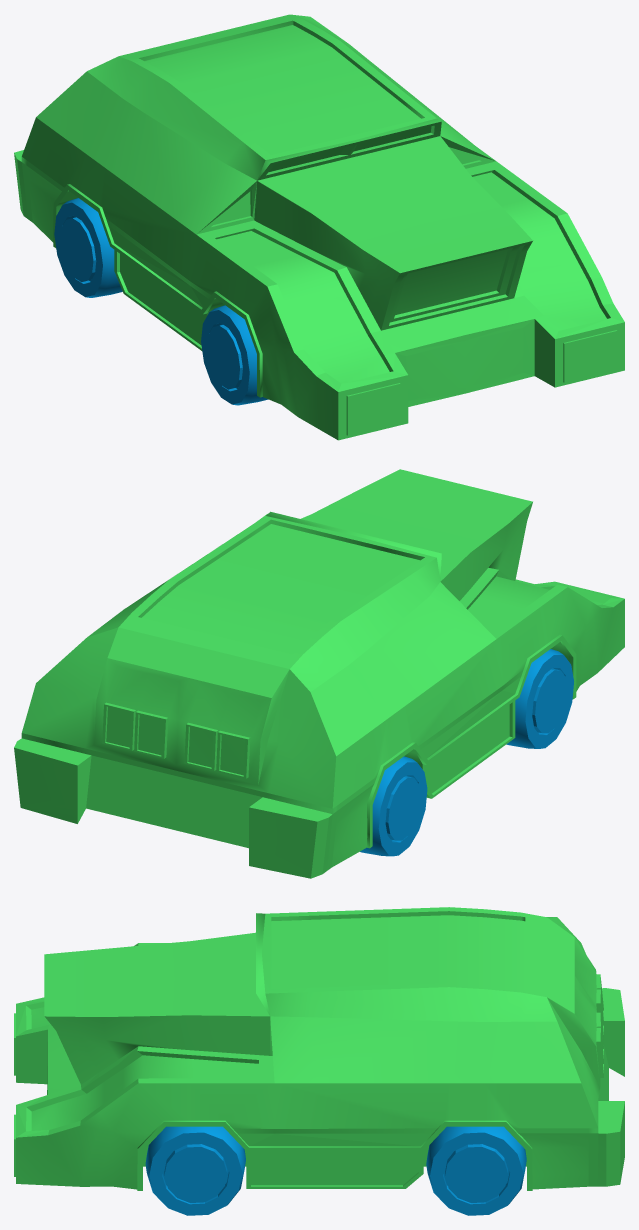
File: Tank.FBX
The picture shows the model from 3 angles, top to bottom: view 1: azimuth 30°, elevation 25°; view 2: azimuth 150°, elevation 25°; view 3: azimuth 270°, elevation 25°; orthographic projection. The views are drawn at different scales.
Parts seen in each view (by area): view 1: Truck_UV, Rueda004, Rueda003; view 2: Truck_UV, Rueda003, Rueda004; view 3: Truck_UV, Rueda1, Rueda002.
Boxes of the visible parts, box(x1,y1,x2,y2) form: Truck_UV: box(14, 14, 624, 440); Rueda004: box(54, 198, 122, 297); Rueda003: box(201, 305, 268, 405); Truck_UV: box(14, 469, 624, 878); Rueda003: box(506, 649, 573, 748); Rueda004: box(360, 756, 427, 856); Truck_UV: box(14, 907, 624, 1190); Rueda1: box(145, 1126, 245, 1215); Rueda002: box(426, 1126, 526, 1215).
Bounding box in the file's own units: 63.51 × 38.15 × 107.
